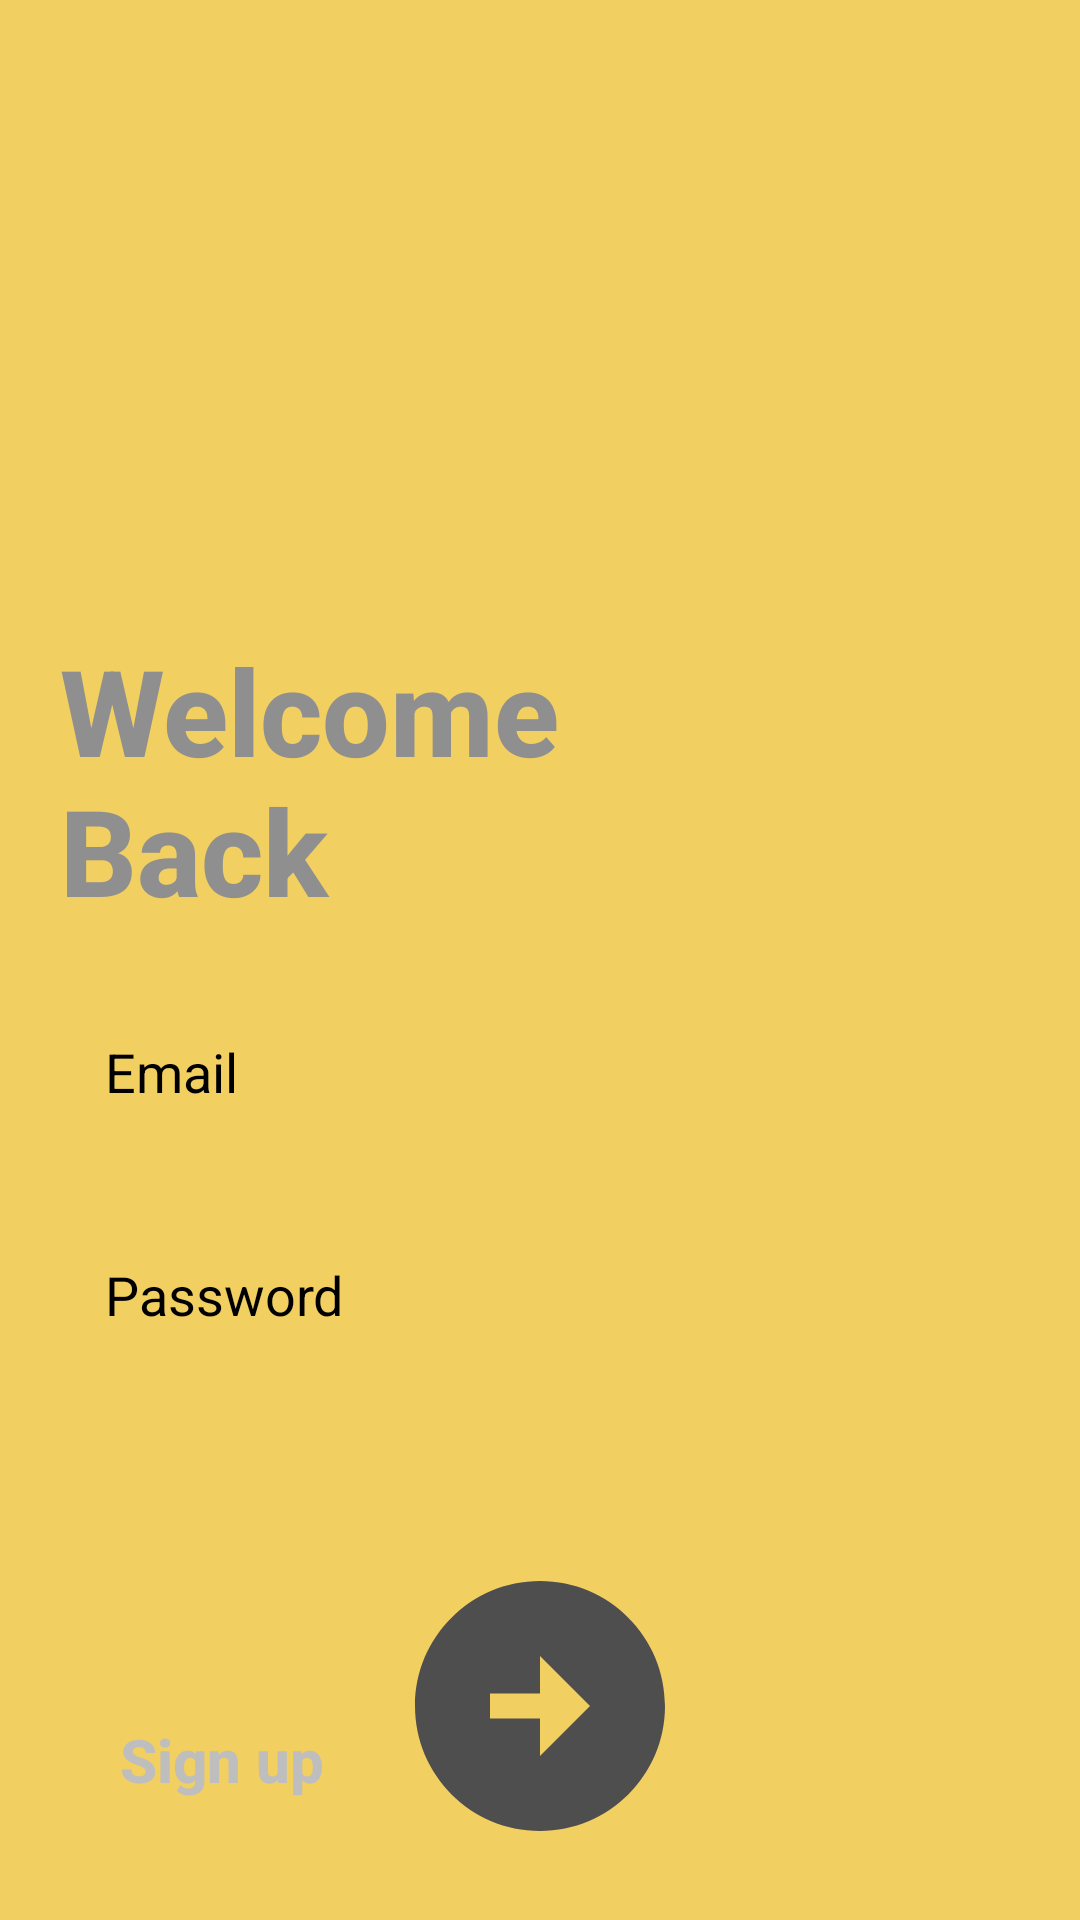

Named icons in this screenshot (1080 × 1920) and their bounding boxes, {"x1": x1, "y1": y1, "x2": x2, "y2": y2}:
arrow right: {"x1": 415, "y1": 1581, "x2": 665, "y2": 1831}
